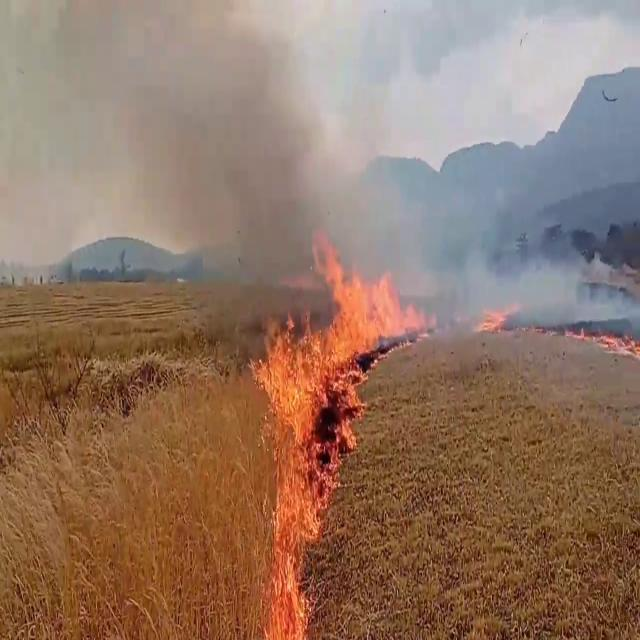Fire: (250, 331, 366, 640), (294, 227, 424, 348), (472, 296, 514, 336)
Smoke: (0, 0, 370, 319), (468, 226, 639, 330)
